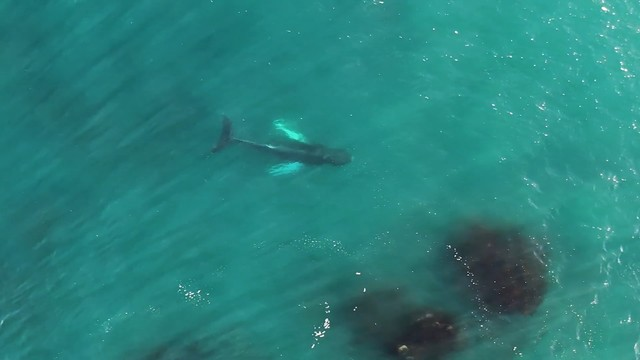whale: (201, 107, 363, 189)
